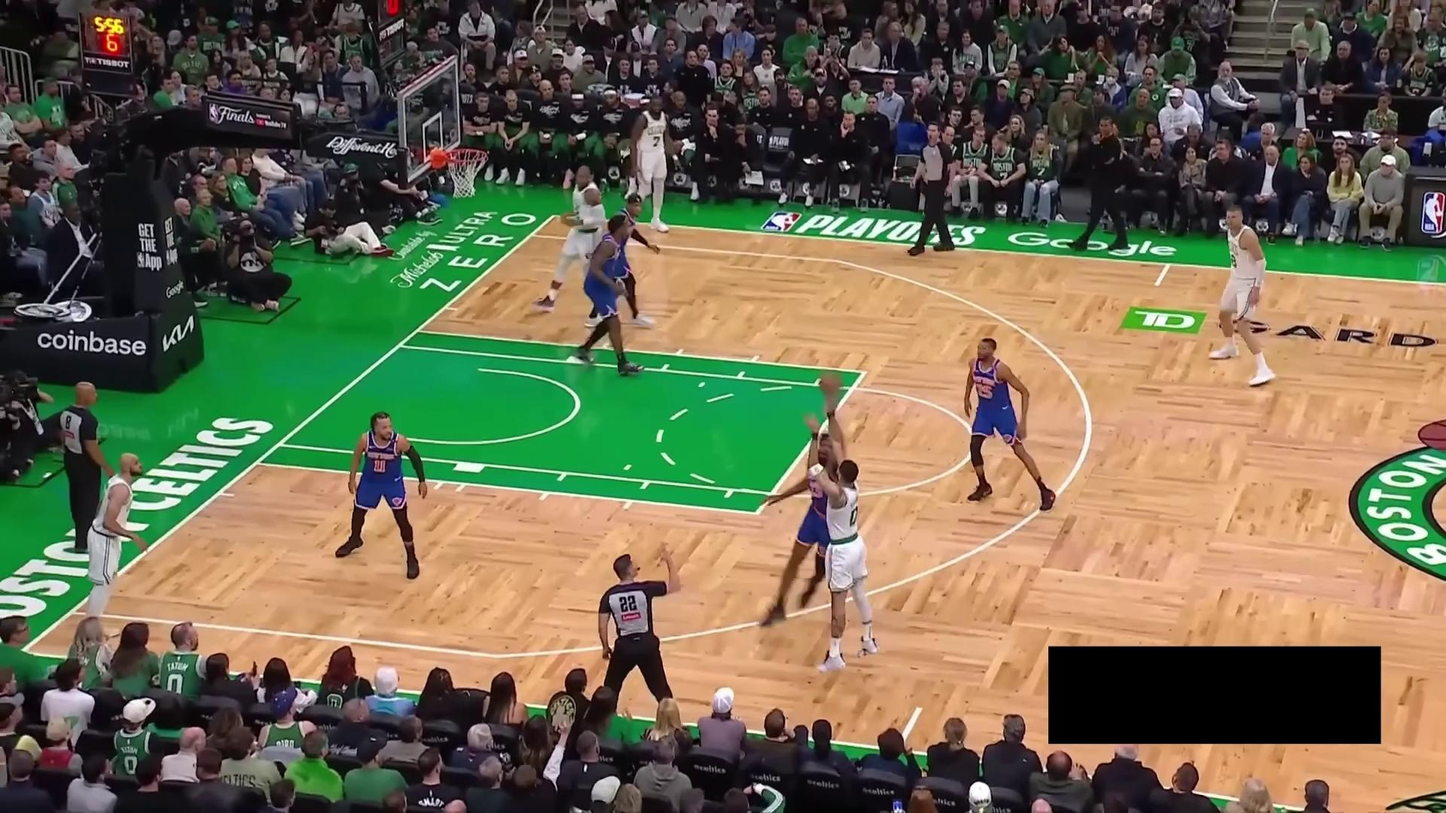ball: (820, 367, 845, 398)
number: (976, 382, 994, 399), (848, 504, 860, 529), (373, 457, 387, 475), (1230, 252, 1238, 269), (652, 134, 661, 147)
player: (959, 334, 1059, 516), (333, 409, 429, 576), (1209, 200, 1285, 389), (530, 161, 617, 316), (83, 446, 151, 629), (583, 189, 667, 332), (578, 216, 646, 373), (628, 88, 681, 232)
player-jump-shot: (807, 363, 882, 677)
player-shot-block: (752, 409, 859, 636)
referee: (588, 542, 686, 732), (52, 378, 127, 555), (906, 121, 961, 258)
rim: (444, 147, 489, 163)
